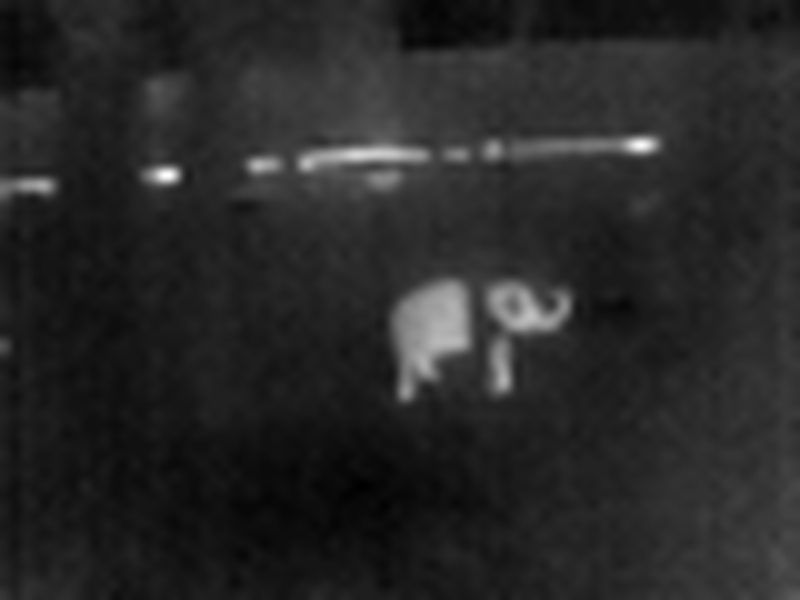elephant: (378, 260, 585, 382)
